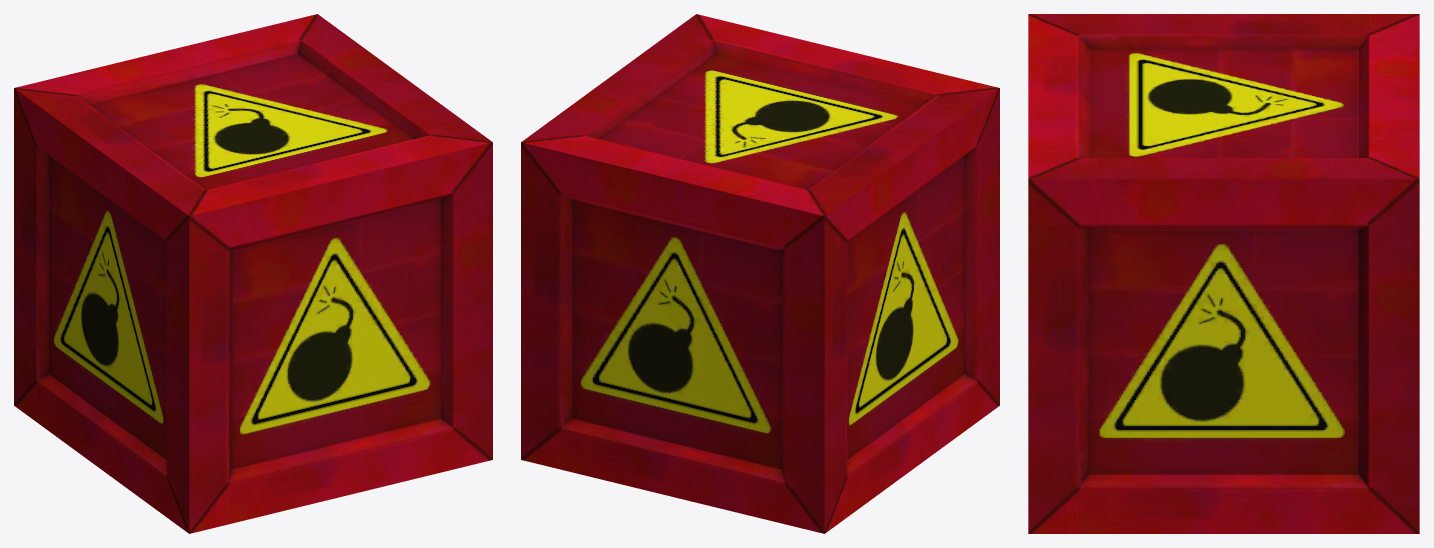
The model's file is toy_explosiveboxugc_a.glb.
The picture shows the model from 3 angles, left to right: view 1: azimuth 30°, elevation 25°; view 2: azimuth 150°, elevation 25°; view 3: azimuth 270°, elevation 25°; orthographic projection. The views are drawn at different scales.
Visible parts, largest first — view 1: Haz001_BlockExplosive01_4; view 2: Haz001_BlockExplosive01_4; view 3: Haz001_BlockExplosive01_4.
Part boxes in pixels (bbox=[...]): Haz001_BlockExplosive01_4: bbox=[14, 14, 492, 533]; Haz001_BlockExplosive01_4: bbox=[521, 14, 999, 533]; Haz001_BlockExplosive01_4: bbox=[1028, 14, 1419, 533].
Bounding box in the file's own units: 0.5163 × 0.5163 × 0.5163.
1 material, 1 textured.
